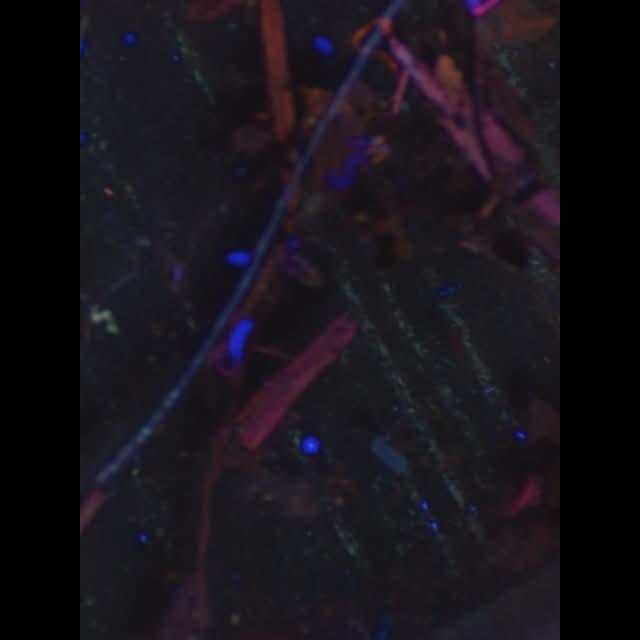Fibre: (90, 301, 120, 335)
